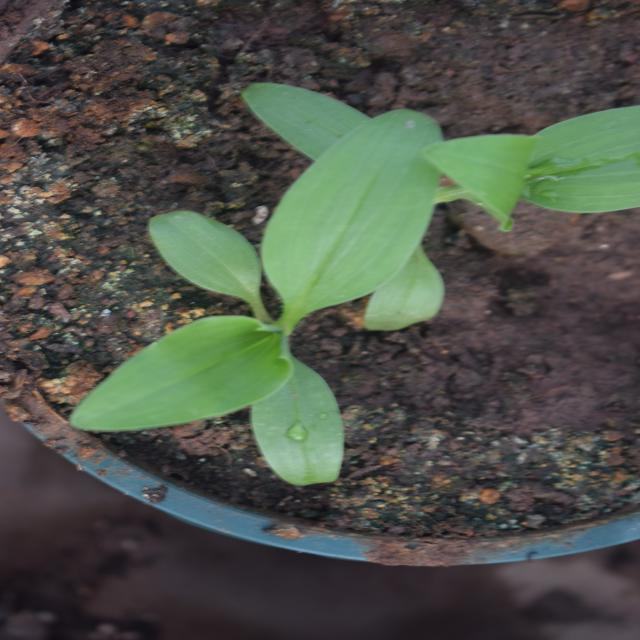Common Dayflower: (110, 178, 456, 549)
